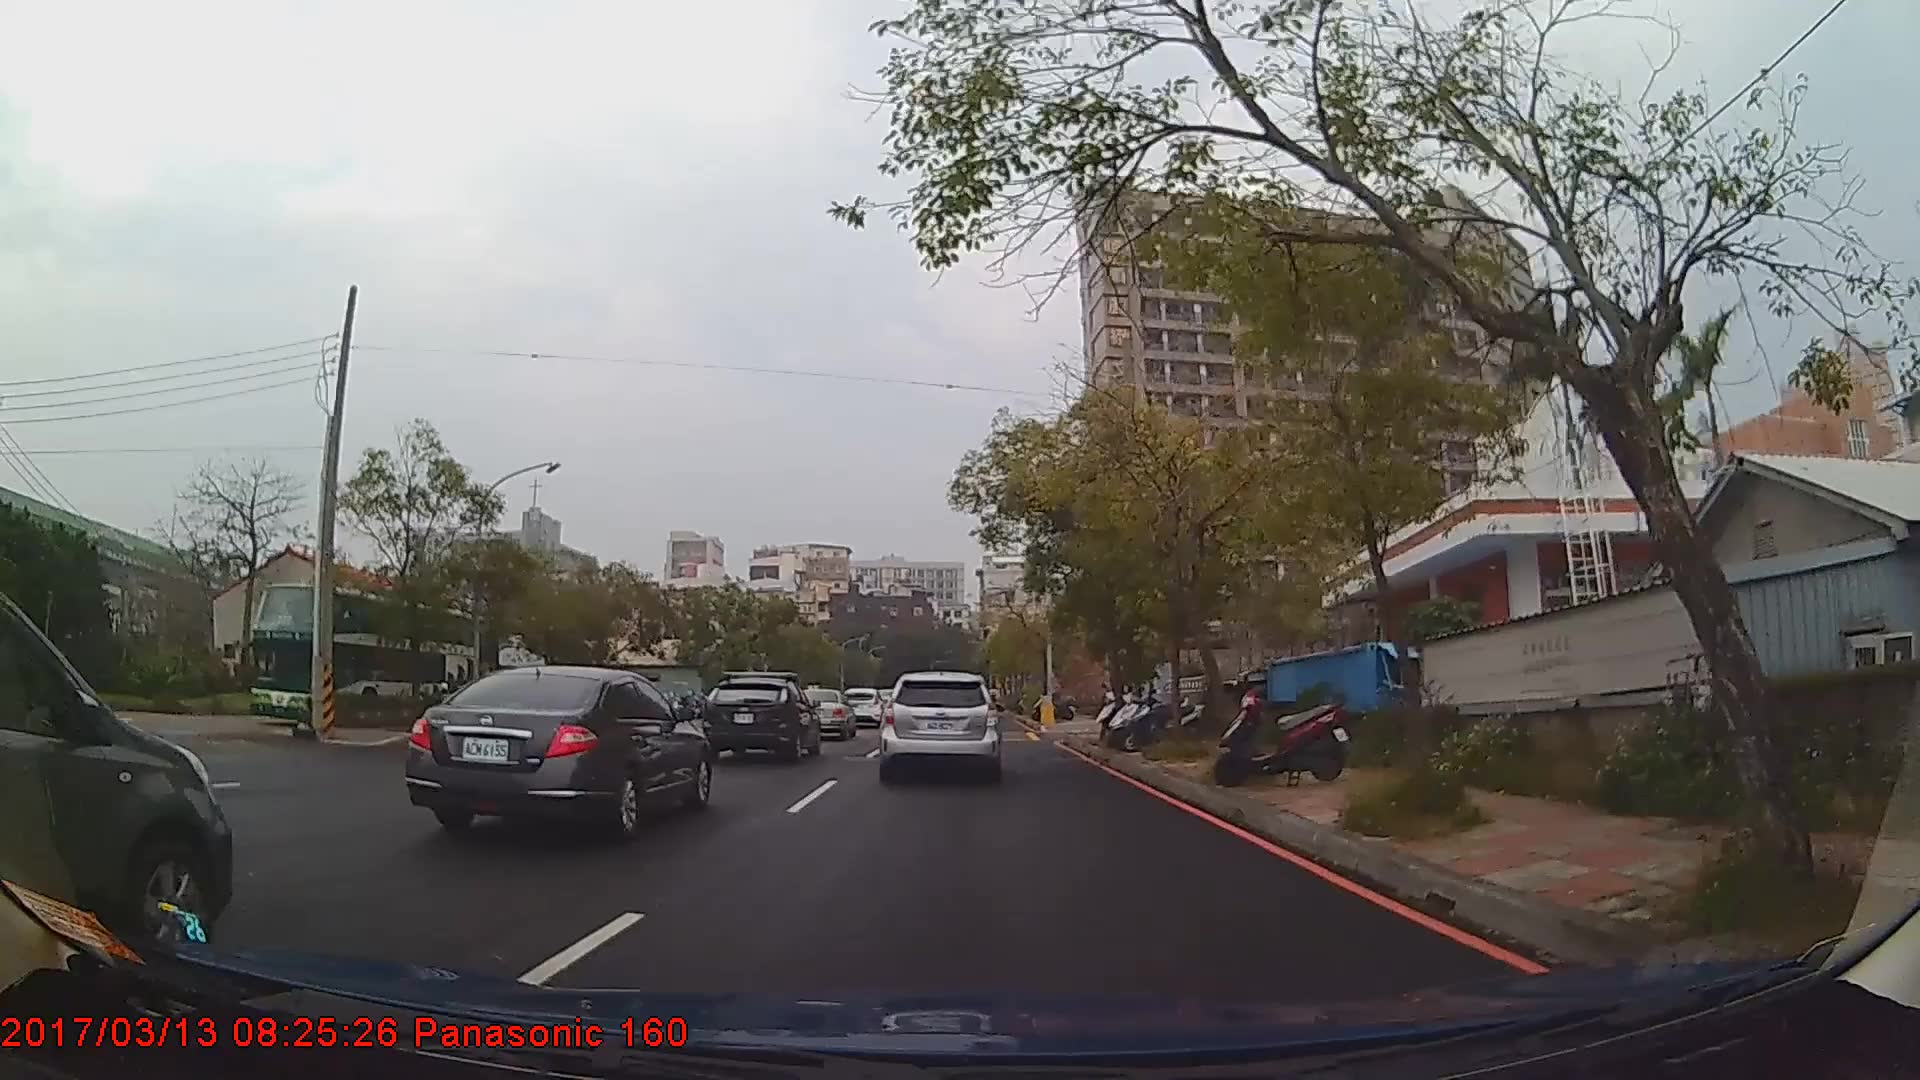vehicle: (0, 580, 233, 965), (406, 662, 712, 836), (247, 580, 475, 737), (878, 669, 1000, 779), (702, 669, 819, 762), (796, 684, 856, 738), (837, 686, 884, 727)
